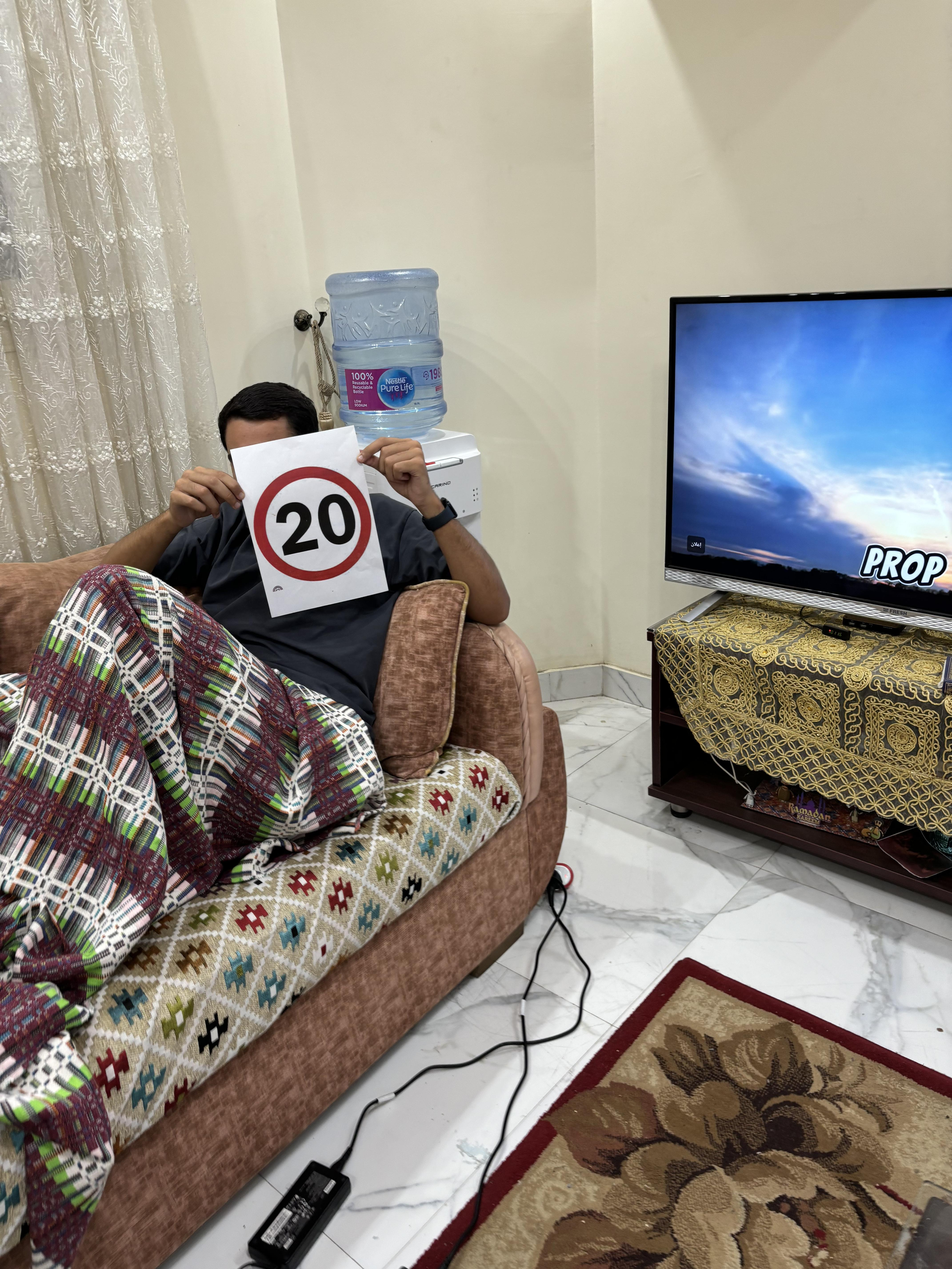20-Speed: (248, 458, 380, 588)
